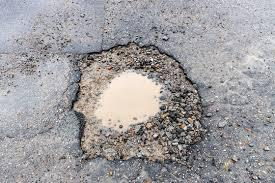pothole: (64, 32, 207, 169)
